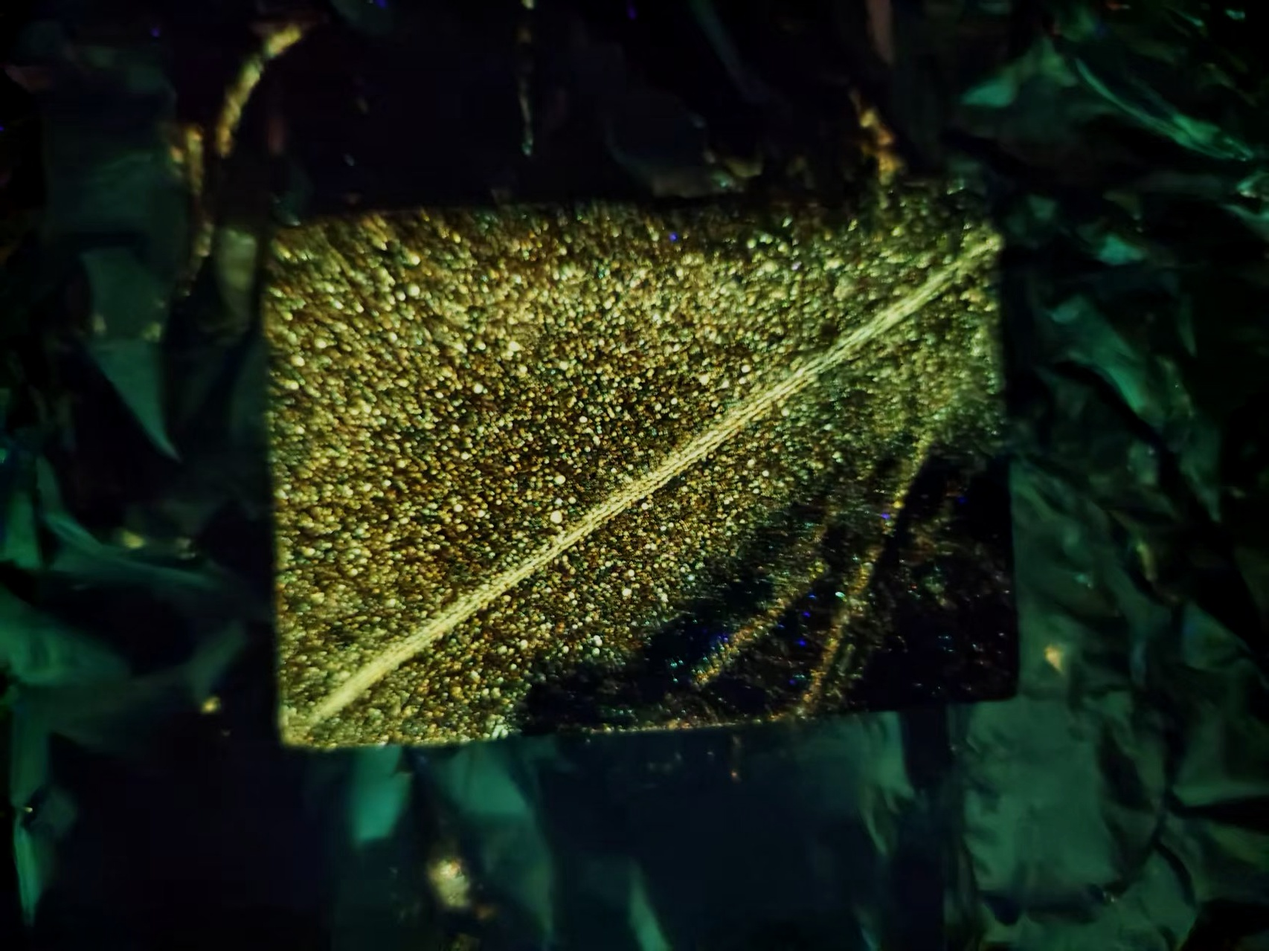Fissure: (304, 236, 1001, 729)
